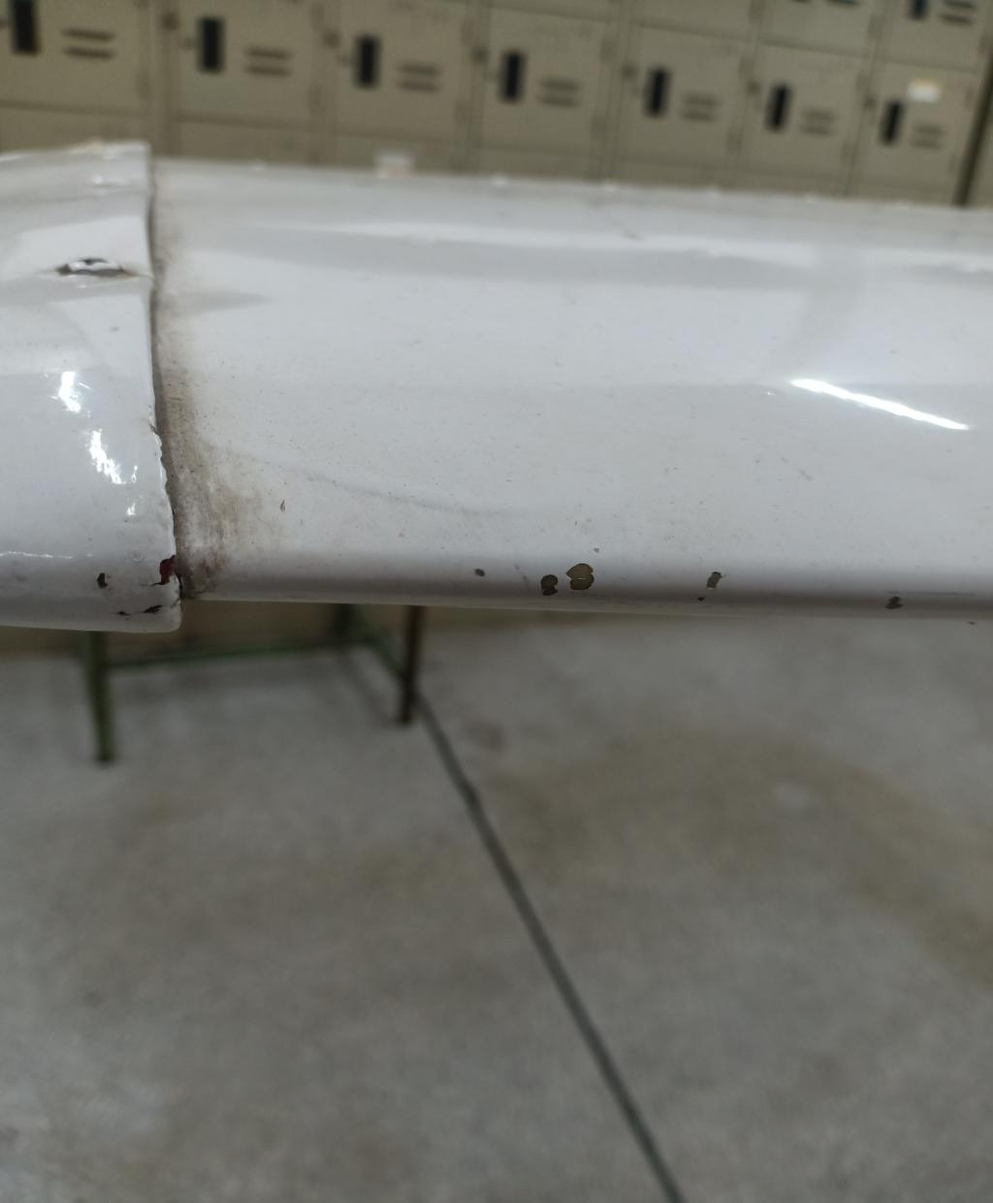corrosion: (94, 544, 183, 626), (49, 247, 145, 293), (529, 555, 604, 602), (691, 565, 742, 603), (873, 583, 918, 616)
